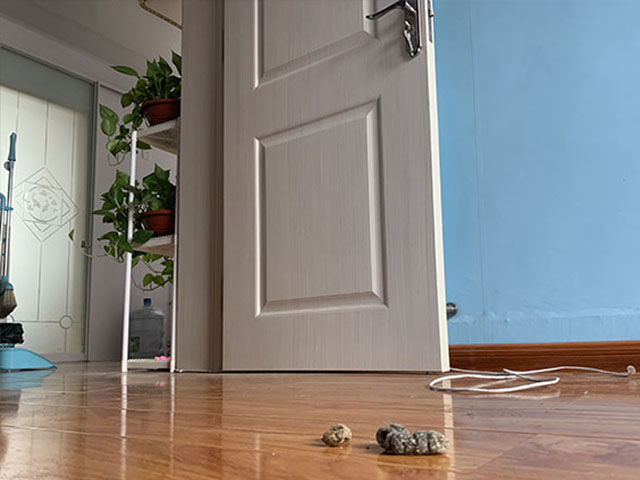feces: (373, 421, 449, 455), (322, 422, 353, 448)
wire: (426, 364, 638, 393)
